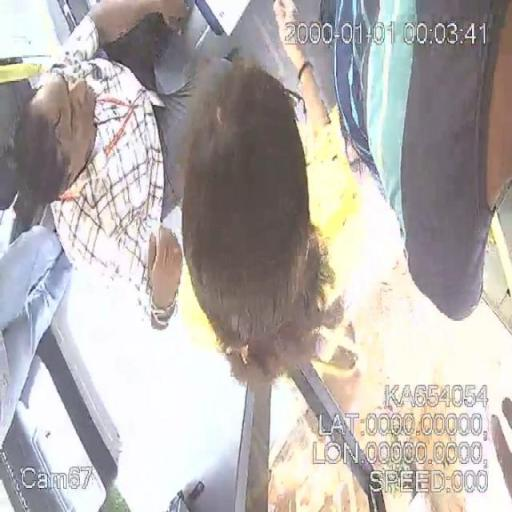persona: (181, 2, 361, 383), (327, 0, 511, 334), (2, 2, 180, 330)
